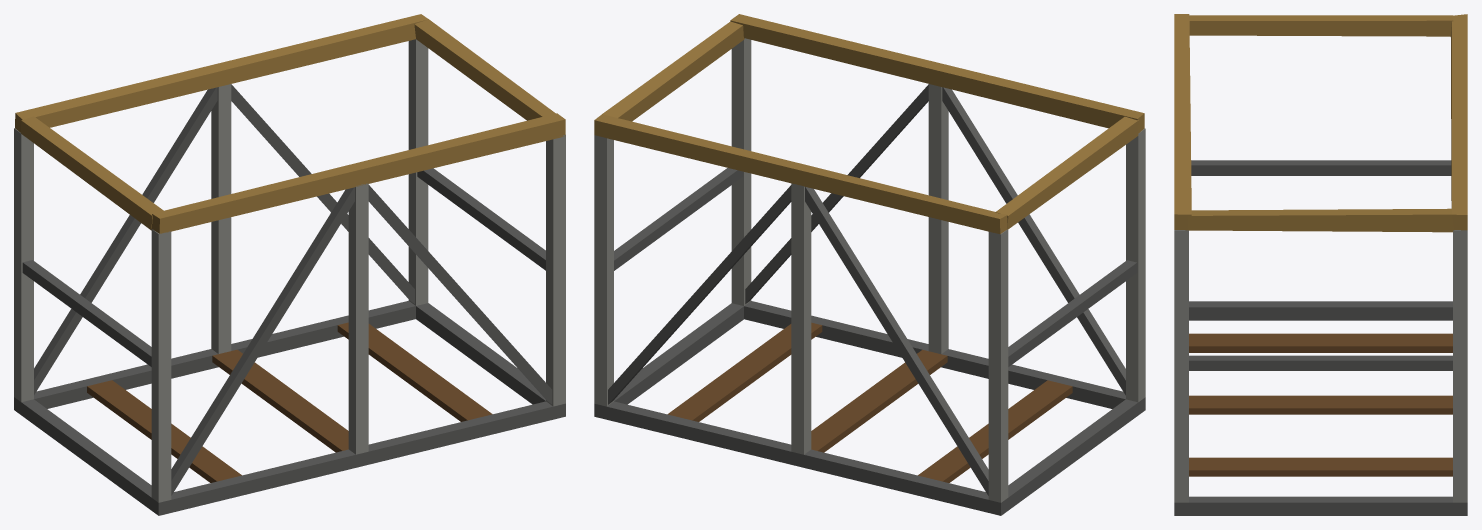
The model's file is cargo_light_frame.glb.
3 views of the same model, side by side, from view 1: azimuth 30°, elevation 25°; view 2: azimuth 150°, elevation 25°; view 3: azimuth 270°, elevation 25° (orthographic).
Parts seen in each view (by area): view 1: cargo_light_frame; view 2: cargo_light_frame; view 3: cargo_light_frame.
Part boxes in pixels (bbox=[...]): cargo_light_frame: bbox=[14, 14, 565, 515]; cargo_light_frame: bbox=[594, 14, 1145, 515]; cargo_light_frame: bbox=[1174, 14, 1467, 515].
Size of the model in its own units: 1.3 by 0.907 by 0.8.
